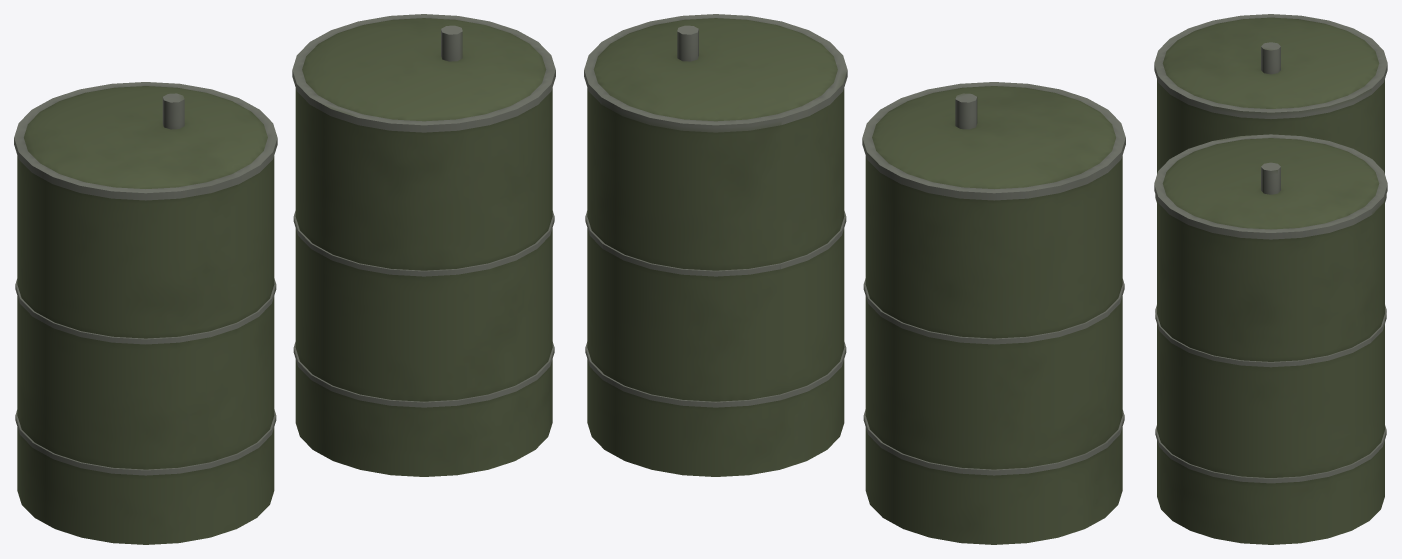
The model's file is military-fuel.fbx.
3 renders of one model, left to right at view 1: azimuth 30°, elevation 25°; view 2: azimuth 150°, elevation 25°; view 3: azimuth 270°, elevation 25°, orthographic. The views are drawn at different scales.
Visible parts, largest first — view 1: military-fuel; view 2: military-fuel; view 3: military-fuel.
Boxes of the visible parts, box(x1,y1,x2,y2) form: military-fuel: box(14, 14, 555, 544); military-fuel: box(584, 14, 1125, 544); military-fuel: box(1154, 14, 1387, 544).
Bounding box in the file's own units: 36.4 × 26.5 × 16.4.
1 material, 1 textured.
